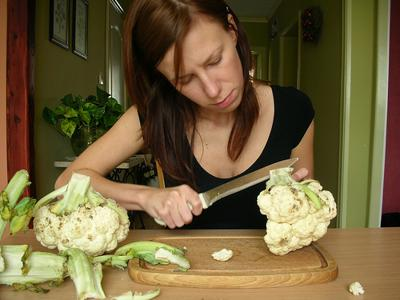person: (53, 1, 319, 230)
